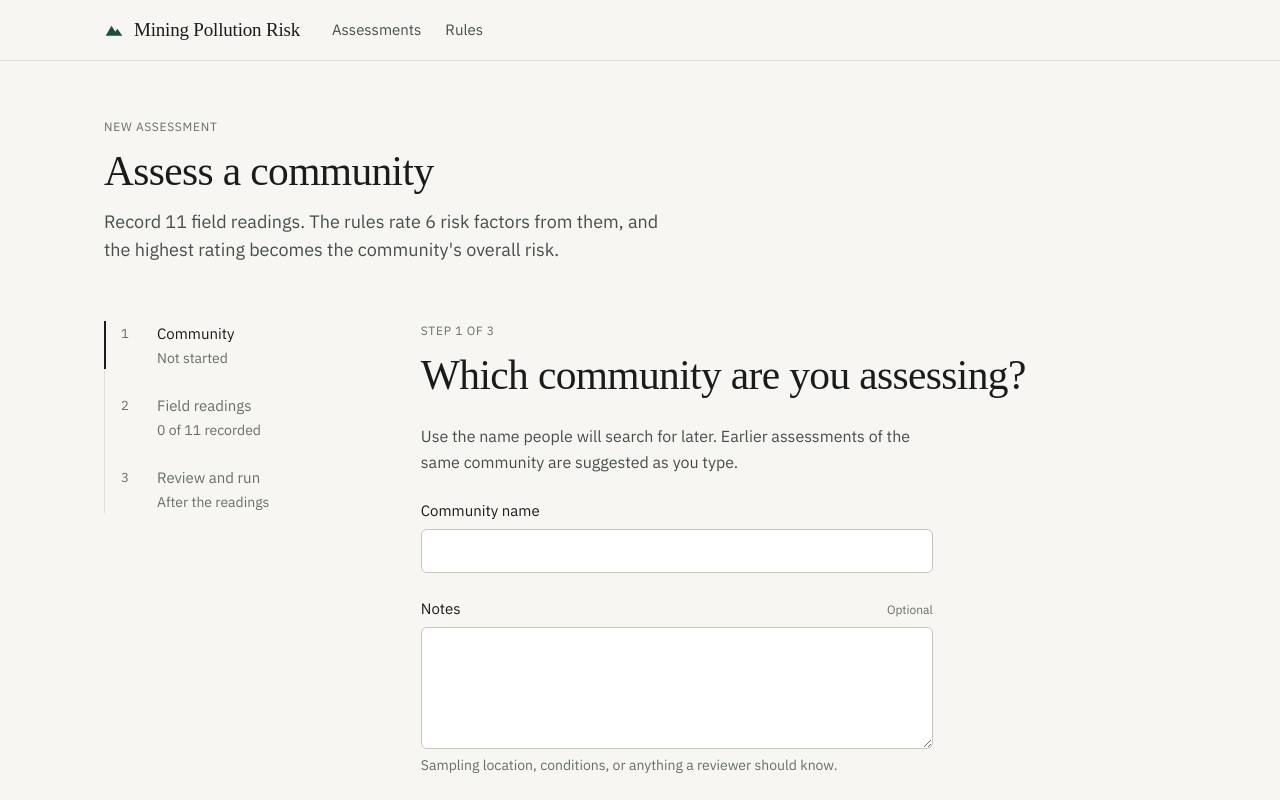
Test: New assessment workflow › shows the thresholds the rules use in each reading's hint
In the field labelled "Community name": [677, 551] box [421,529,933,573], type "Tarkwa"
(page scrolled)
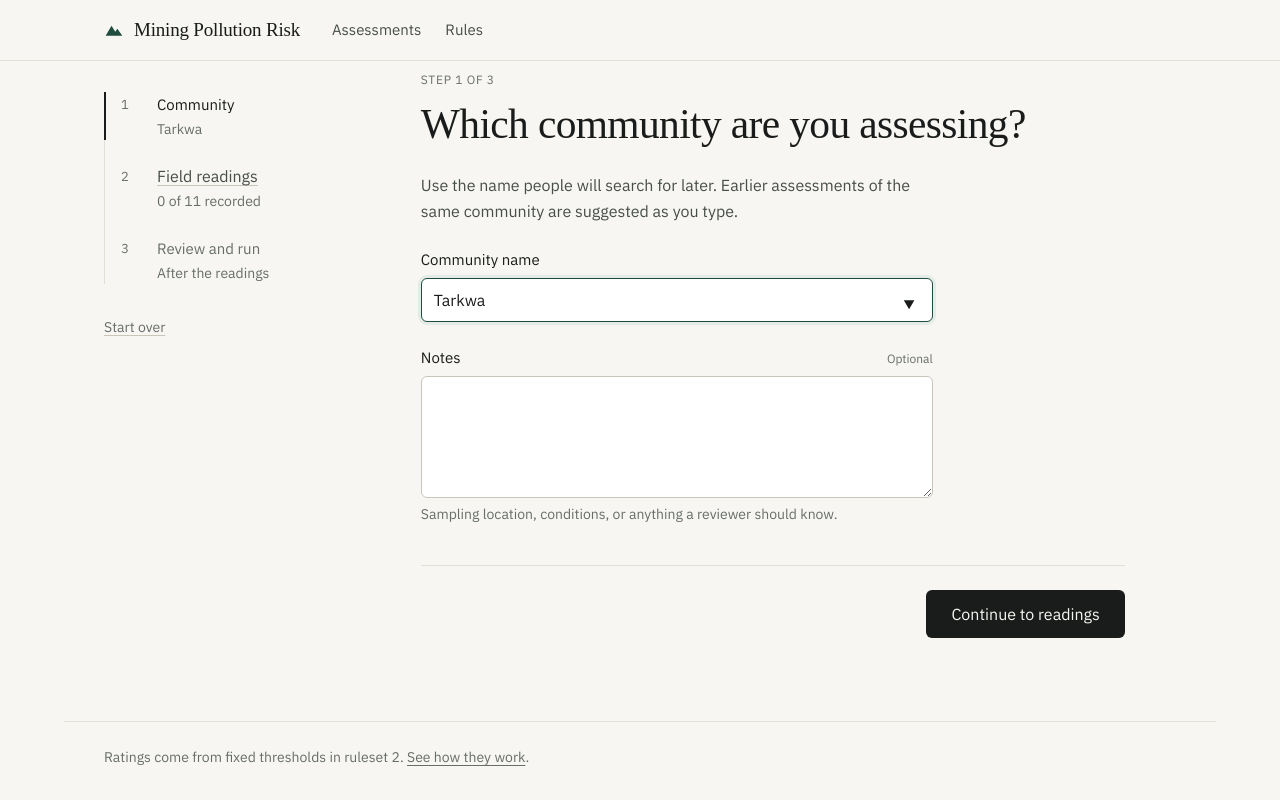
Click the button "Continue to readings": [1026, 614] box [926,590,1125,638]
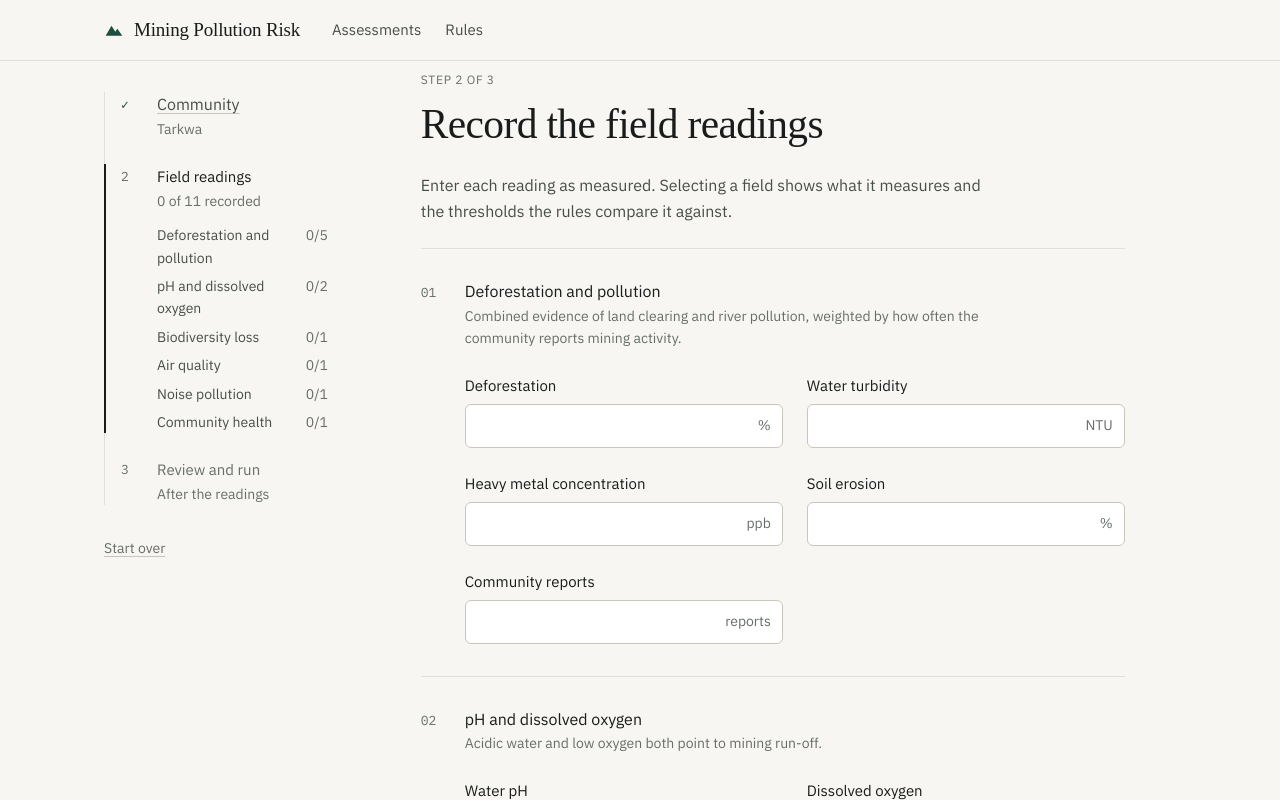
expect the heading "Record the field readings" is shown: met, box [421,101,823,147]
